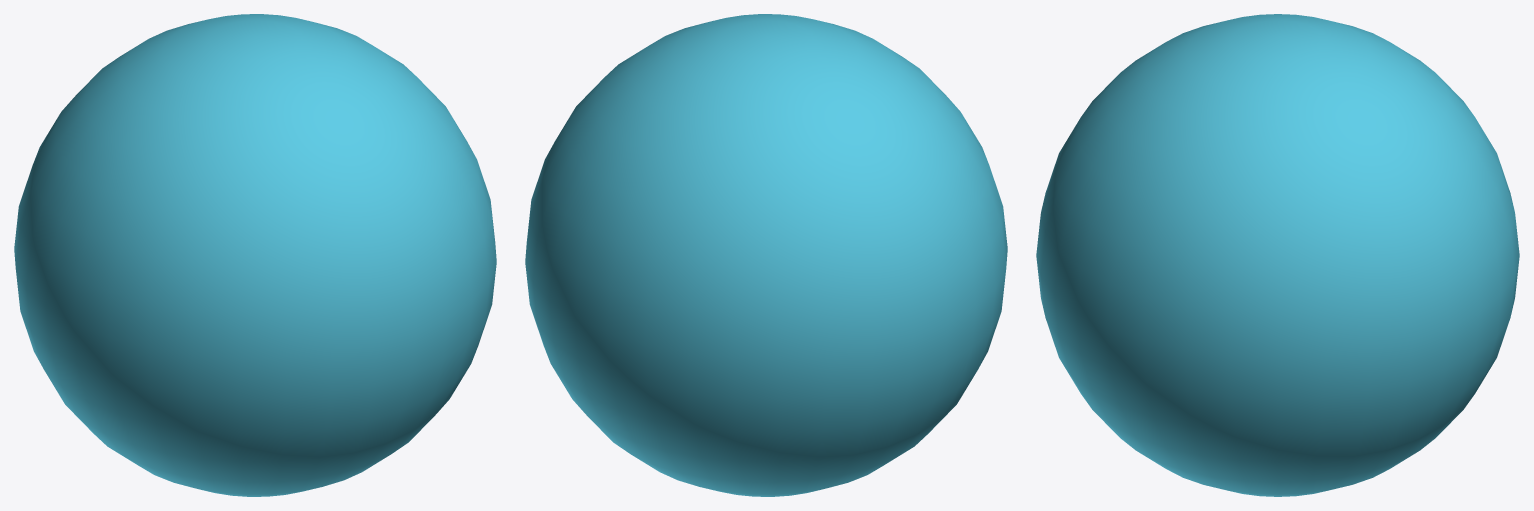
Rendered from city.obj.
The picture shows the model from 3 angles, left to right: view 1: azimuth 30°, elevation 25°; view 2: azimuth 150°, elevation 25°; view 3: azimuth 270°, elevation 25°; orthographic projection.
Visible parts, largest first — view 1: Sphere001; view 2: Sphere001; view 3: Sphere001.
Part boxes in pixels (left/top/right/bottom): Sphere001: left=14, top=14, right=496, bottom=496; Sphere001: left=525, top=14, right=1007, bottom=496; Sphere001: left=1036, top=14, right=1519, bottom=496.
Size of the model in its own units: 1773 by 1773 by 1773.
